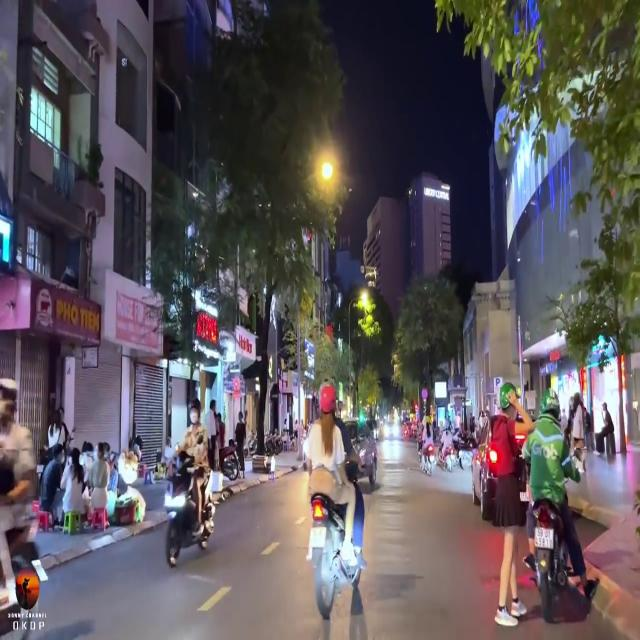bien_trang: (533, 528, 553, 549)
